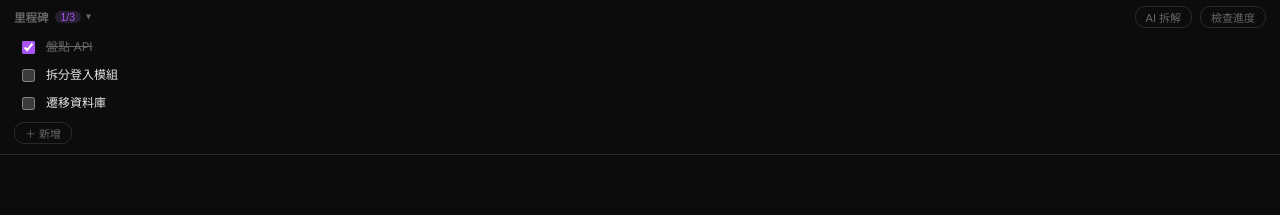
Scenario: MilestoneList – AI progress check › secret redaction in the progress check › masks secrets in the current and the earlier screens, and says how many
Click the button "檢查進度" at point(1233, 17), box [1200,6,1266,28]
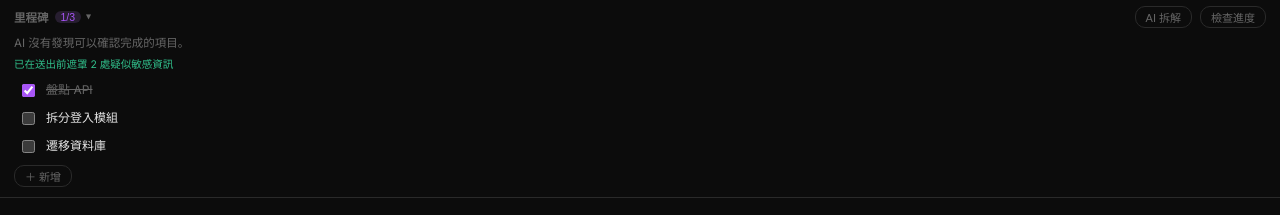
expect the text "已在送出前遮罩 2 處疑似敏感資訊" is shown: met, box [14,58,173,71]
